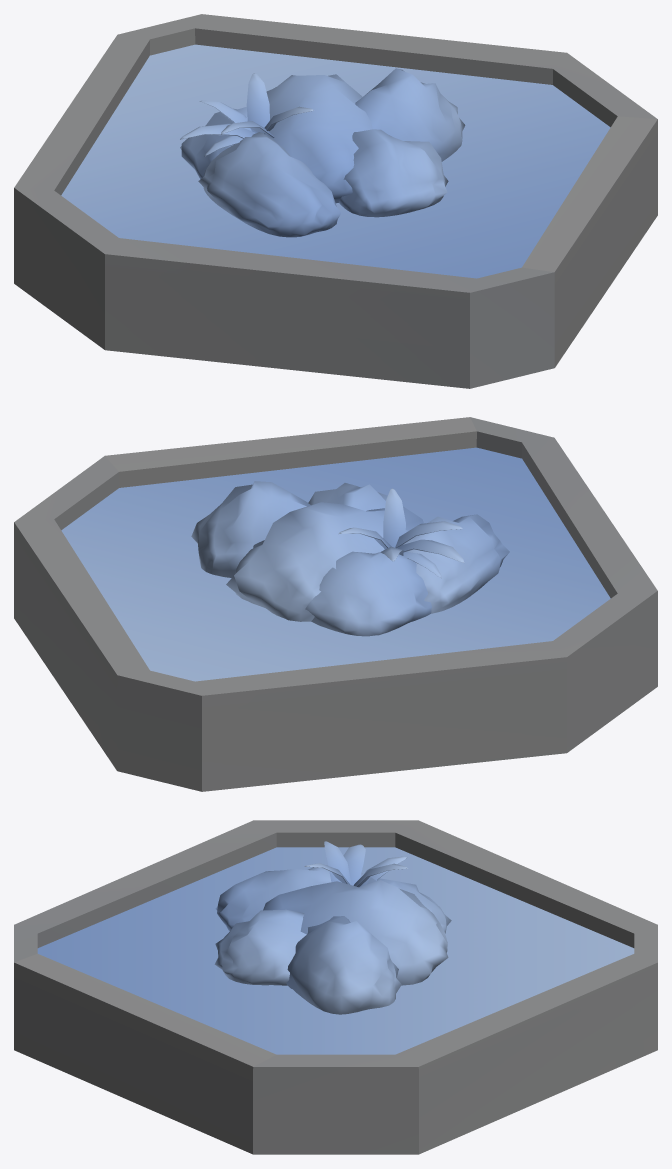
Rendered from vinonelioistutus.fbx.
3 renders of one model, top to bottom at view 1: azimuth 30°, elevation 25°; view 2: azimuth 150°, elevation 25°; view 3: azimuth 270°, elevation 25°, orthographic. The views are drawn at different scales.
Parts seen in each view (by area): view 1: pCube2; view 2: pCube2; view 3: pCube2.
Part boxes in pixels (box(x1,y1,x2,y2)): pCube2: box(14, 14, 657, 388); pCube2: box(14, 417, 657, 791); pCube2: box(14, 820, 657, 1154).
Bounding box in the file's own units: 36.96 × 10.32 × 40.83.
